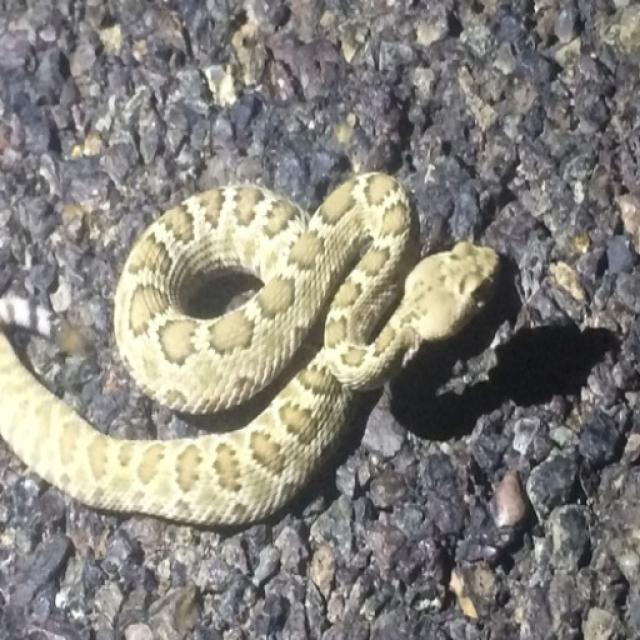snake: (10, 110, 599, 610)
